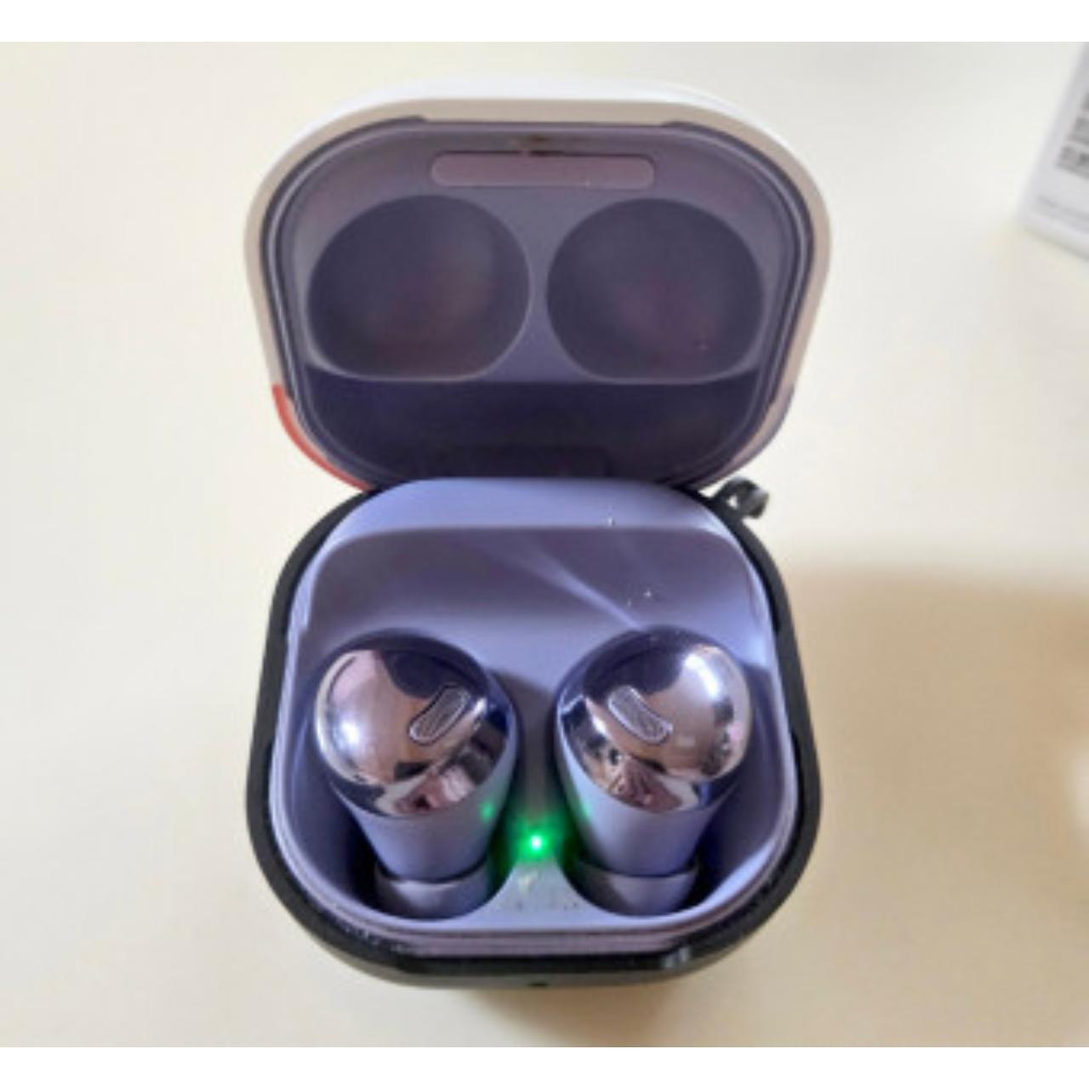Buds: (234, 87, 840, 995)
Buds_Units: (304, 624, 531, 923), (545, 622, 769, 925)
